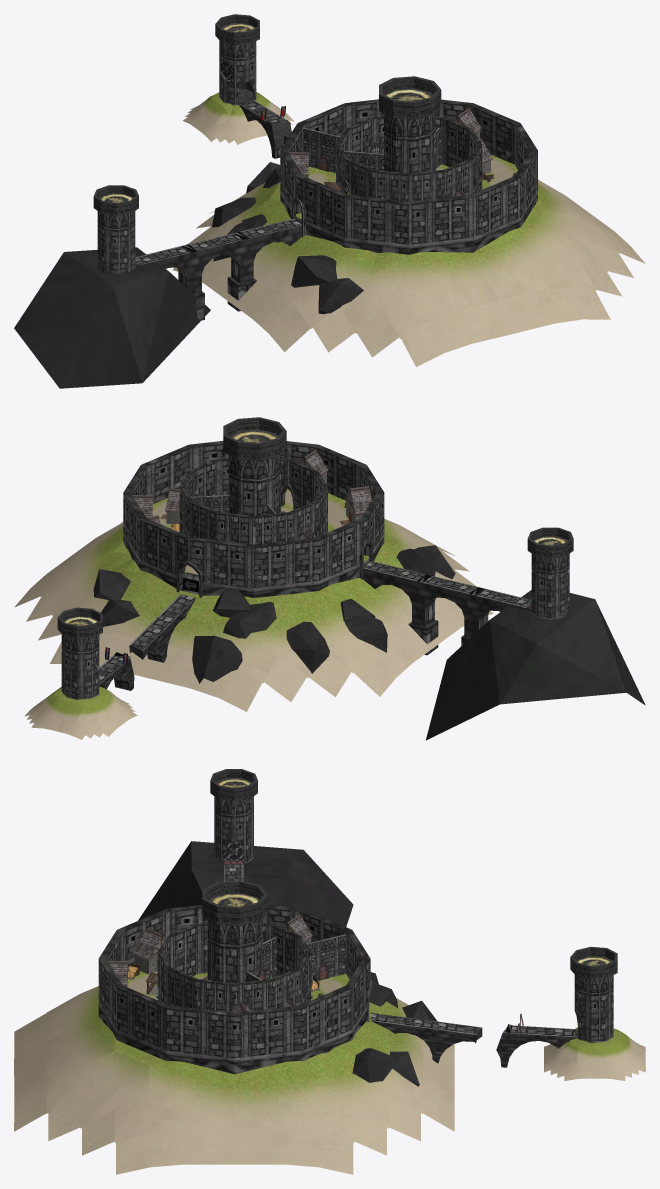
3 views of the same model, one above another, from view 1: azimuth 30°, elevation 25°; view 2: azimuth 150°, elevation 25°; view 3: azimuth 270°, elevation 25° (orthographic). The views are drawn at different scales.
Visible parts, largest first — view 1: course-SKP--Brick, course-SKP--Grass, course-SKP--Rock, course-SKP--Sand, course-SKP--Medieval_Pallette, course-SKP--Grass_City; view 2: course-SKP--Brick, course-SKP--Rock, course-SKP--Grass, course-SKP--Sand, course-SKP--Medieval_Pallette, course-SKP--Grass_City; view 3: course-SKP--Brick, course-SKP--Grass, course-SKP--Sand, course-SKP--Rock, course-SKP--Medieval_Pallette, course-SKP--Grass_City.
Part boxes in pixels (left/top/right/bottom): course-SKP--Brick: left=93, top=14, right=537, bottom=321; course-SKP--Grass: left=196, top=92, right=619, bottom=338; course-SKP--Rock: left=14, top=162, right=363, bottom=388; course-SKP--Sand: left=172, top=102, right=645, bottom=366; course-SKP--Medieval_Pallette: left=288, top=108, right=515, bottom=198; course-SKP--Grass_City: left=295, top=154, right=535, bottom=244; course-SKP--Brick: left=57, top=417, right=573, bottom=699; course-SKP--Rock: left=93, top=545, right=645, bottom=740; course-SKP--Grass: left=39, top=519, right=459, bottom=724; course-SKP--Sand: left=14, top=525, right=493, bottom=739; course-SKP--Medieval_Pallette: left=130, top=450, right=371, bottom=539; course-SKP--Grass_City: left=138, top=488, right=369, bottom=587; course-SKP--Brick: left=98, top=769, right=617, bottom=1074; course-SKP--Grass: left=46, top=986, right=632, bottom=1142; course-SKP--Sand: left=14, top=1013, right=645, bottom=1174; course-SKP--Rock: left=138, top=841, right=437, bottom=1086; course-SKP--Medieval_Pallette: left=107, top=914, right=328, bottom=1025; course-SKP--Grass_City: left=100, top=971, right=366, bottom=1056.
Size of what is drawn, in the model's own units: 112013 by 43442 by 103315.
18 materials, 18 textured.
